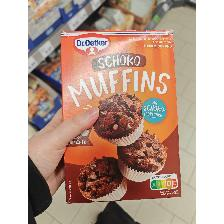Kuchen: (59, 27, 183, 206)
